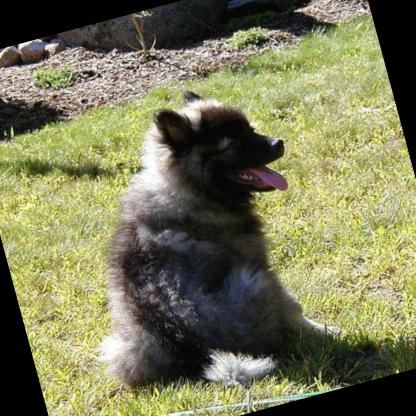keeshond: (28, 62, 355, 416)
